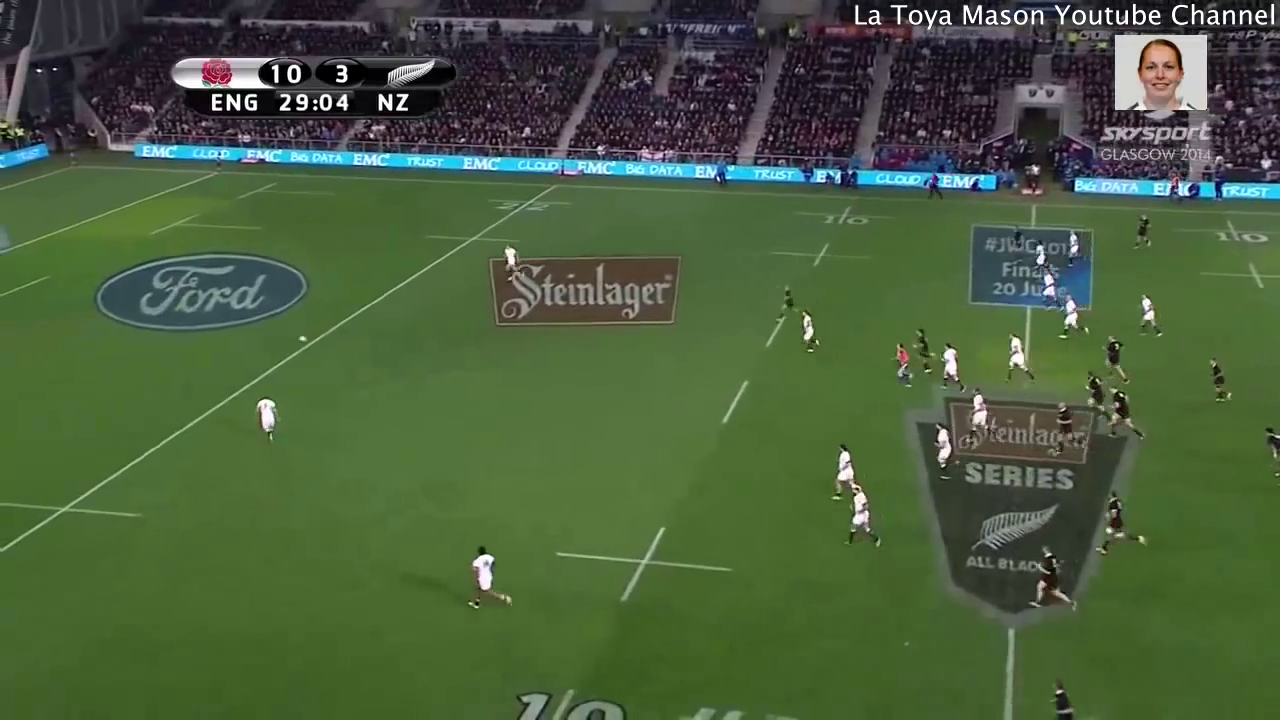10_metre: (554, 523, 738, 610), (764, 237, 875, 272), (1170, 218, 1280, 253), (798, 203, 893, 232), (1199, 260, 1280, 293)
ball: (297, 330, 309, 348)
player: (1090, 489, 1151, 560), (1024, 544, 1079, 618), (465, 544, 517, 618), (844, 481, 883, 550), (1104, 382, 1146, 443), (249, 388, 285, 447), (1131, 289, 1171, 342), (1057, 289, 1093, 347), (965, 384, 996, 450), (1098, 330, 1129, 392), (1049, 399, 1080, 455), (1203, 353, 1234, 407), (831, 440, 857, 504), (928, 419, 955, 480), (1005, 330, 1033, 388), (910, 324, 938, 381), (1258, 417, 1280, 482), (888, 337, 915, 388), (794, 306, 822, 355), (494, 238, 524, 283), (1034, 266, 1063, 312), (1079, 365, 1108, 410), (937, 345, 963, 392), (1045, 681, 1076, 720), (775, 284, 802, 327), (1130, 209, 1157, 250), (1064, 225, 1085, 271), (1030, 238, 1053, 272), (1009, 221, 1027, 260)
